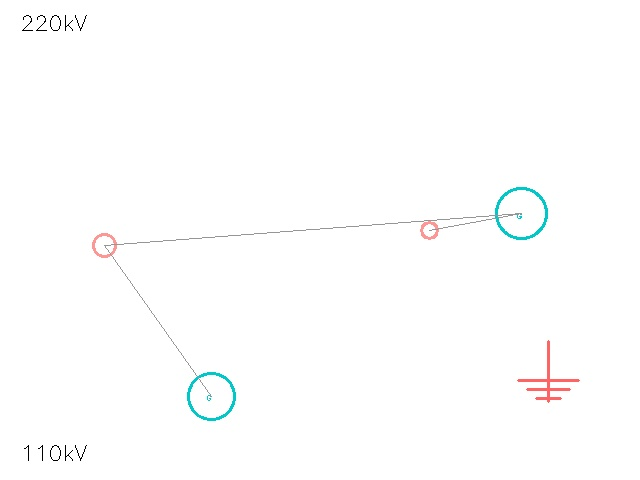disconnect_switch: (82, 223, 126, 267), (412, 213, 446, 247)
generator: (496, 188, 546, 238), (188, 373, 234, 419)
ground: (518, 341, 578, 401)
